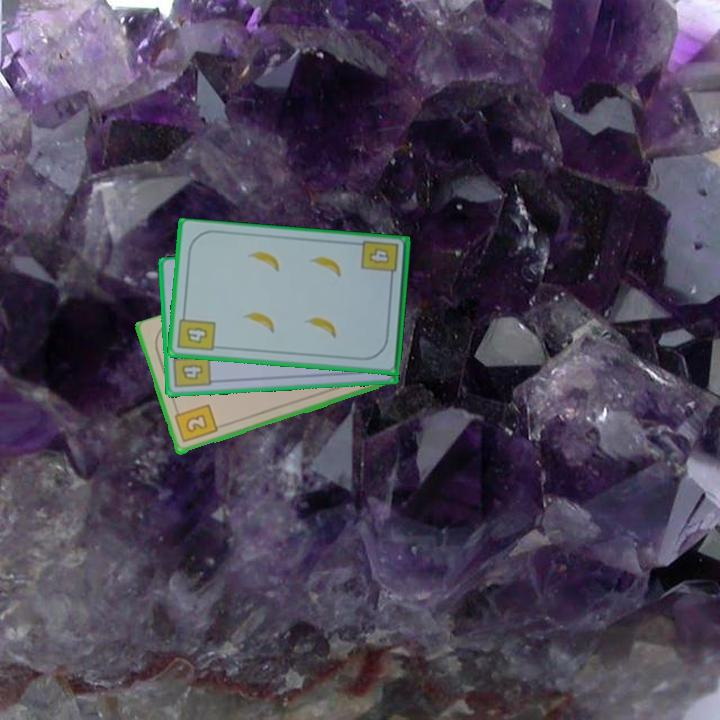2b: (171, 401, 220, 445)
4b: (174, 309, 218, 354), (358, 238, 401, 284), (170, 347, 214, 391)
